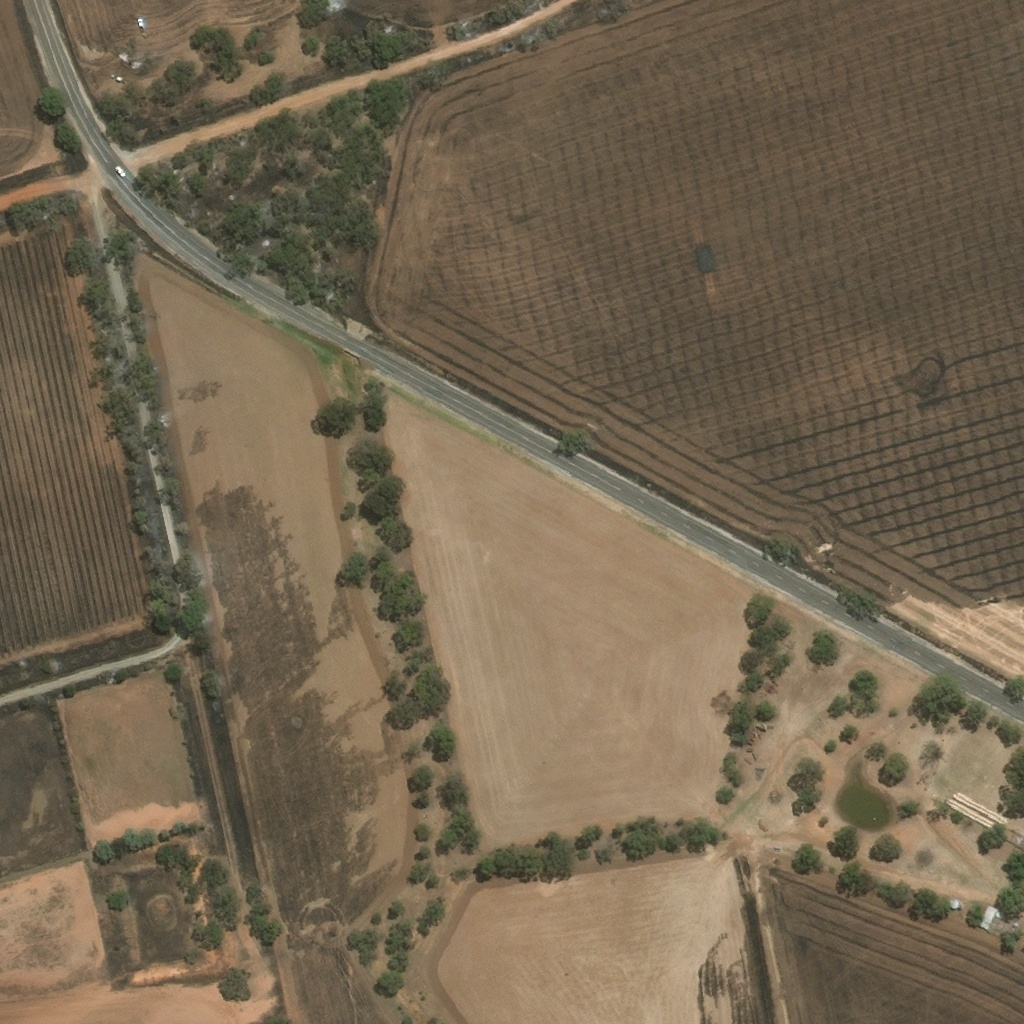0 no-damage: (976, 905, 999, 933), (949, 899, 960, 911)
4 un-classified: (1002, 826, 1023, 852)
